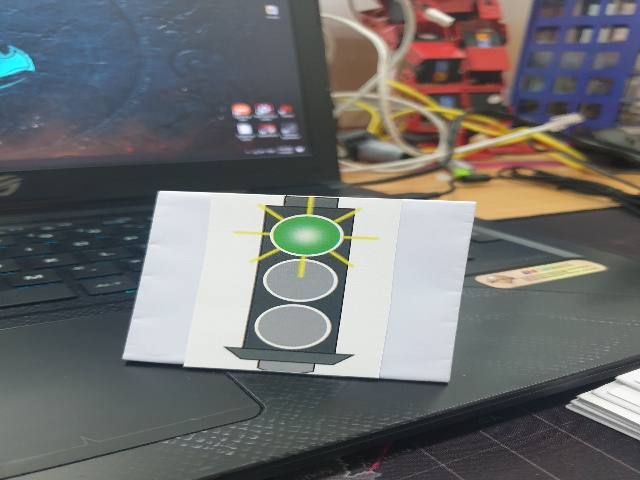Green Light: (234, 194, 360, 374)
